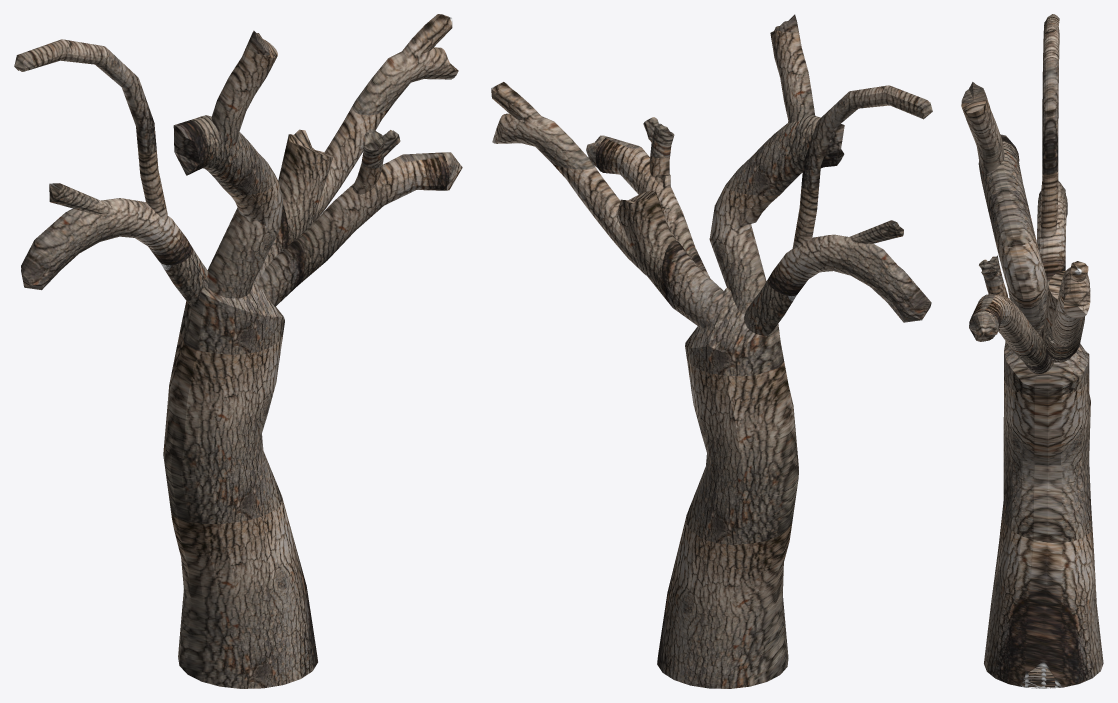
File: tree_light.obj
3 views of the same model, side by side, from view 1: azimuth 30°, elevation 25°; view 2: azimuth 150°, elevation 25°; view 3: azimuth 270°, elevation 25° (orthographic). The views are drawn at different scales.
Parts seen in each view (by area): view 1: polySurface5; view 2: polySurface5; view 3: polySurface5.
Part boxes in pixels (left/top/right/bottom): polySurface5: left=14, top=14, right=462, bottom=688; polySurface5: left=491, top=14, right=932, bottom=688; polySurface5: left=961, top=14, right=1103, bottom=688.
Size of the model in its own units: 1.9 by 2.66 by 0.6042.
